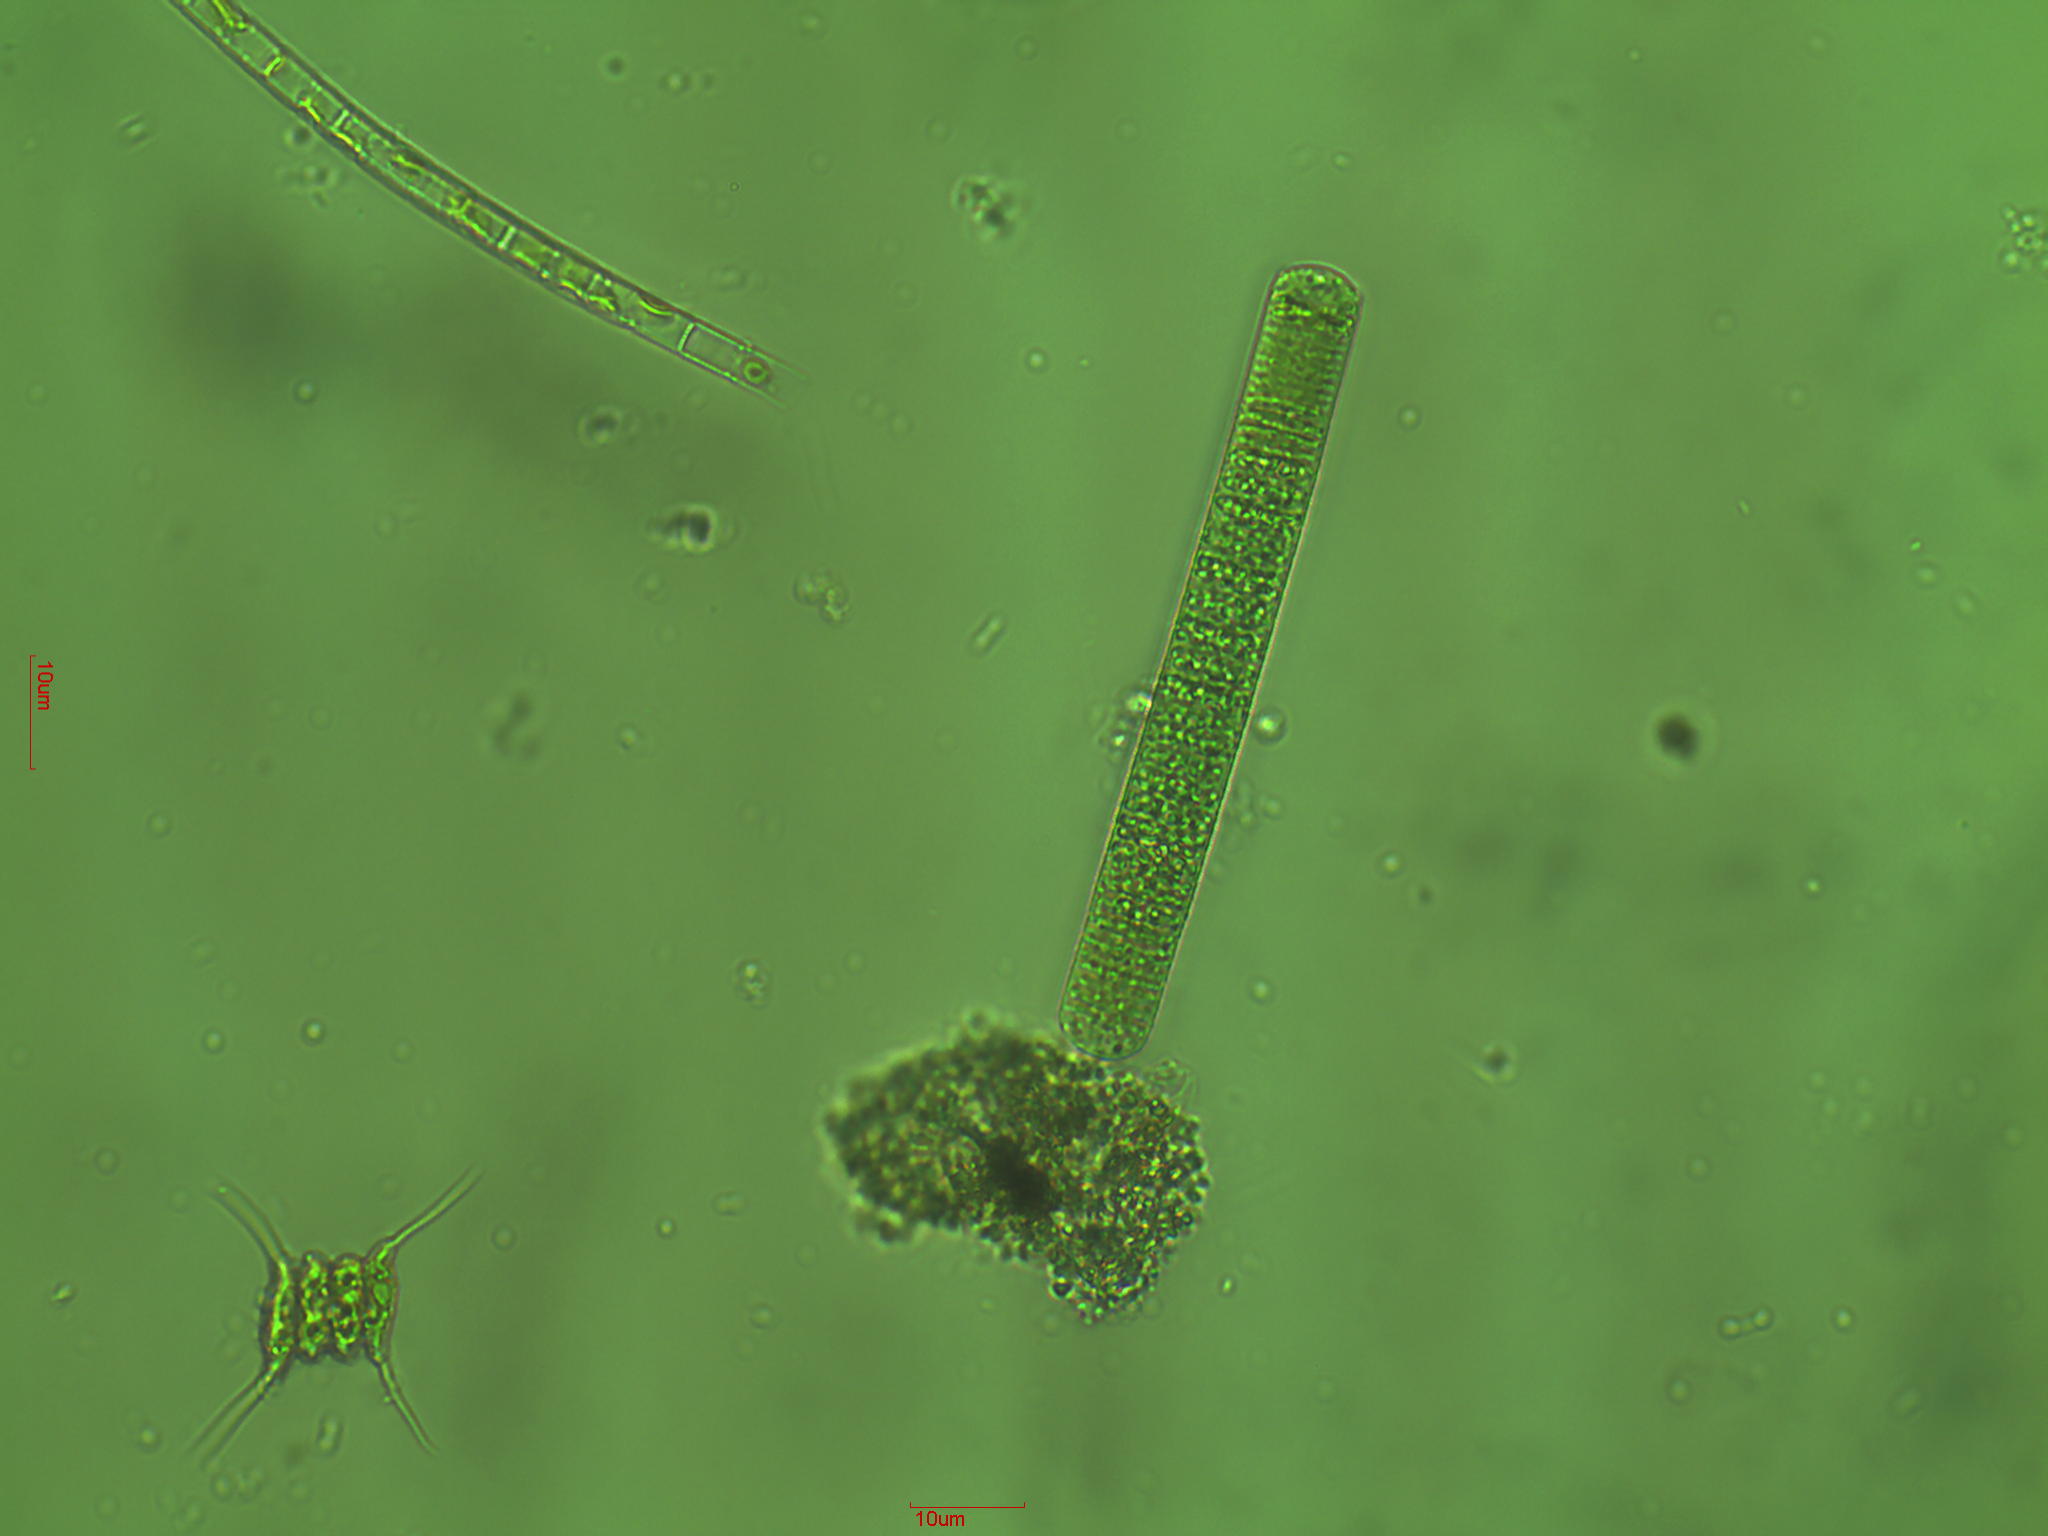G001: (1048, 255, 1377, 1066)
G003: (810, 999, 1221, 1333)
G008: (153, 2, 821, 416)
G018: (177, 1155, 497, 1476)
unknown: (1643, 695, 1713, 778), (1472, 1037, 1521, 1092)
